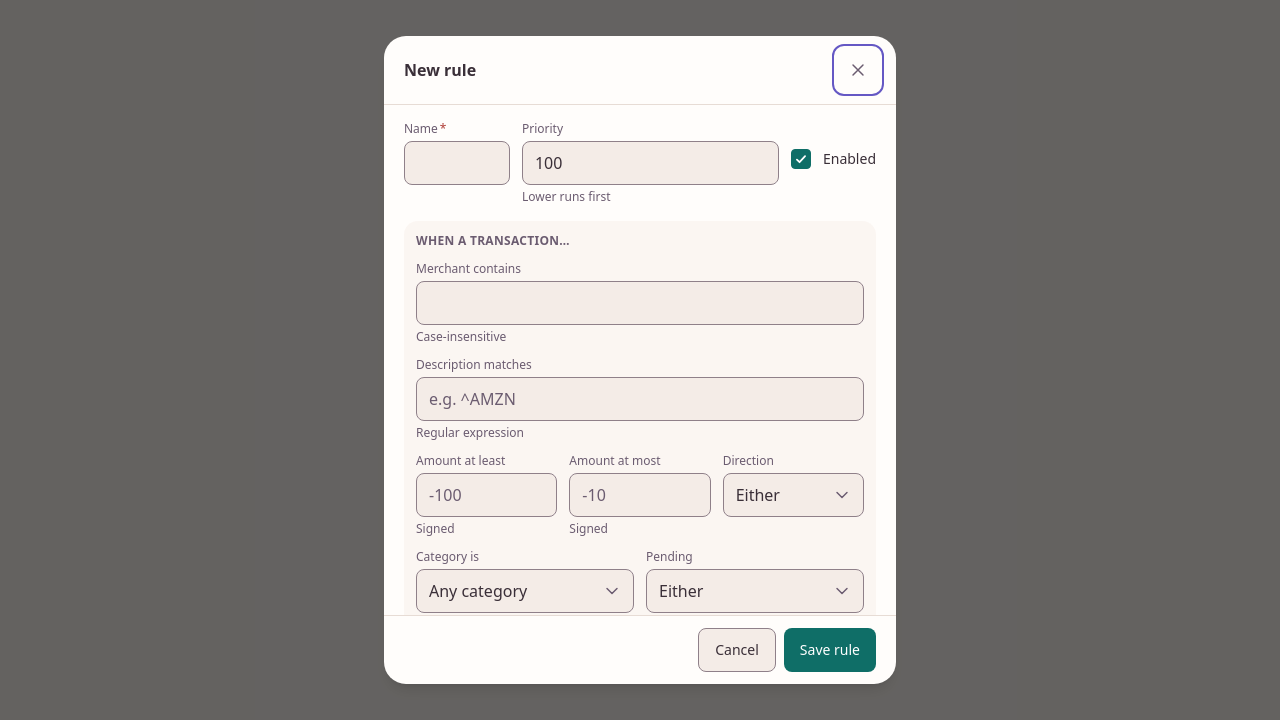
Test: <RuleBuilder /> › rejects a regular expression that does not compile
The width and height of the screenshot is (1280, 720).
In the field with test id "rule-name": (457, 163) [404,141,510,185], type "Bad regex"
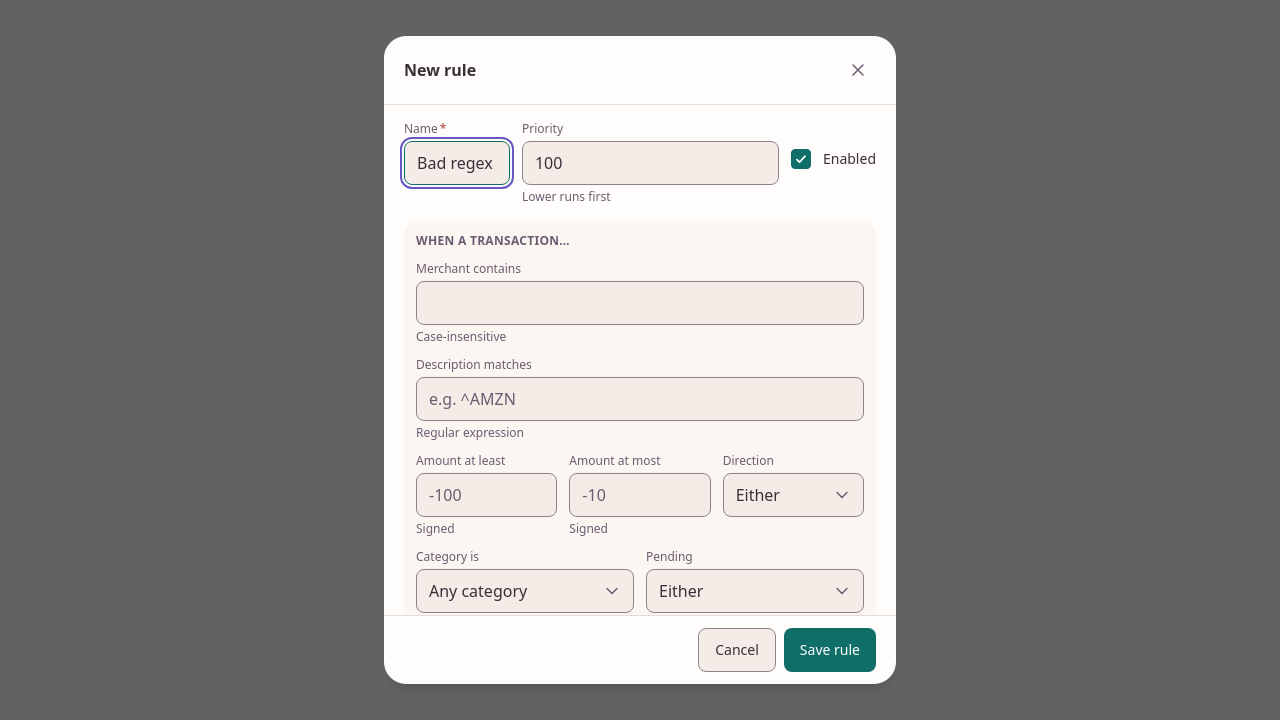
In the field with test id "rule-description-regex": (640, 399) [416,377,864,421], type "(unclosed"
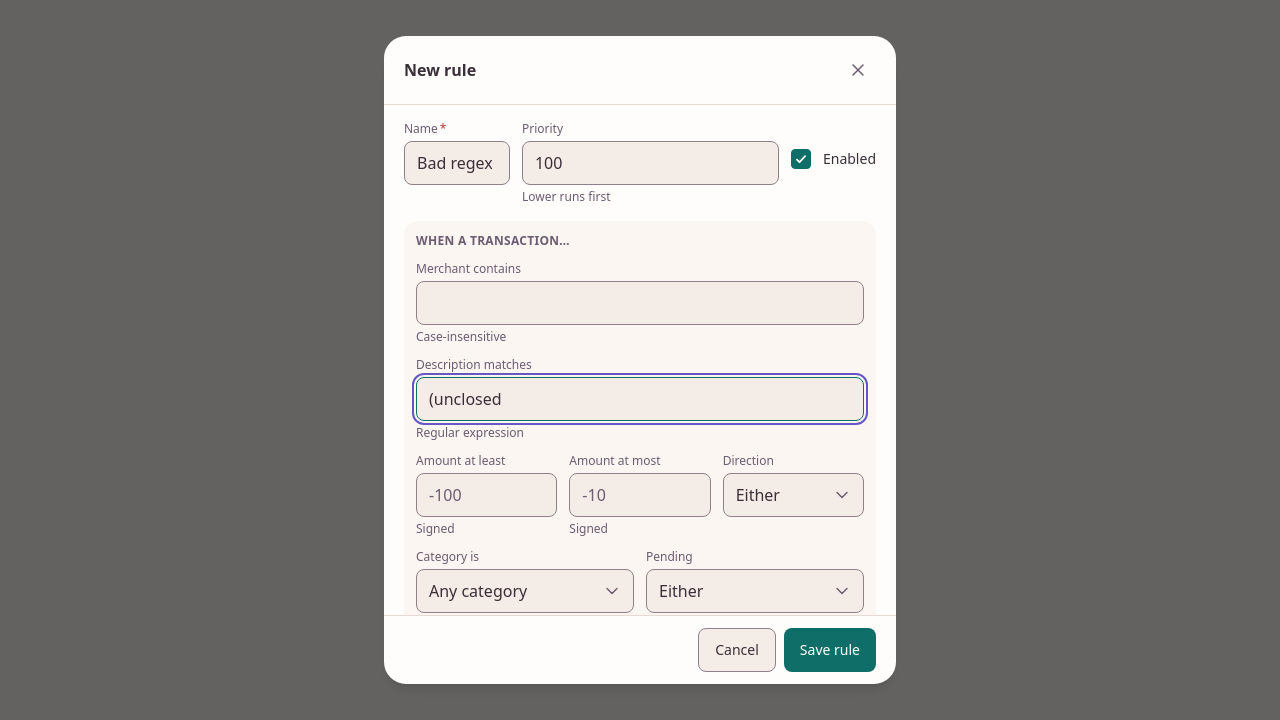
Click the button with test id "rule-save": (830, 650) [784,628,876,672]
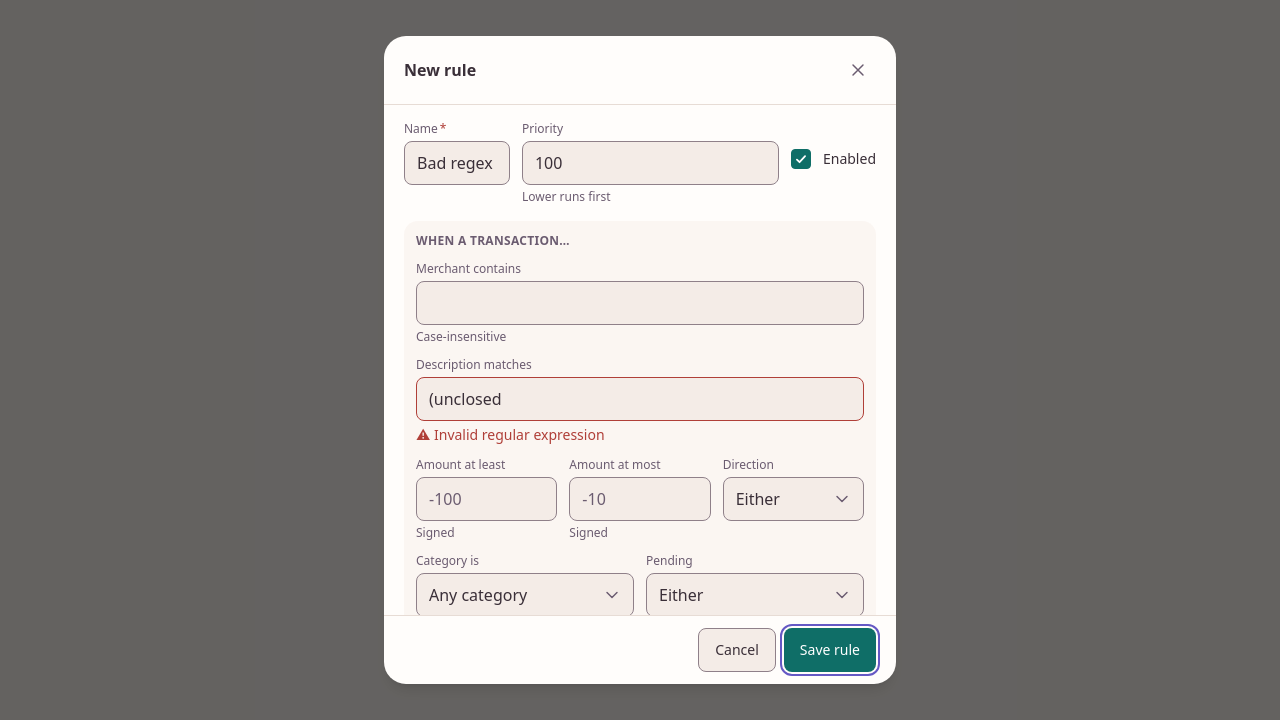
Expected: the text "Invalid regular expression" is shown, [434,425,605,444]
